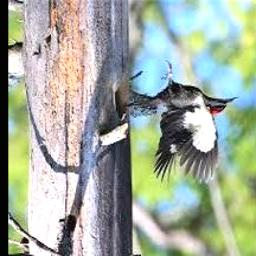Woodpecker: (123, 61, 239, 184)
